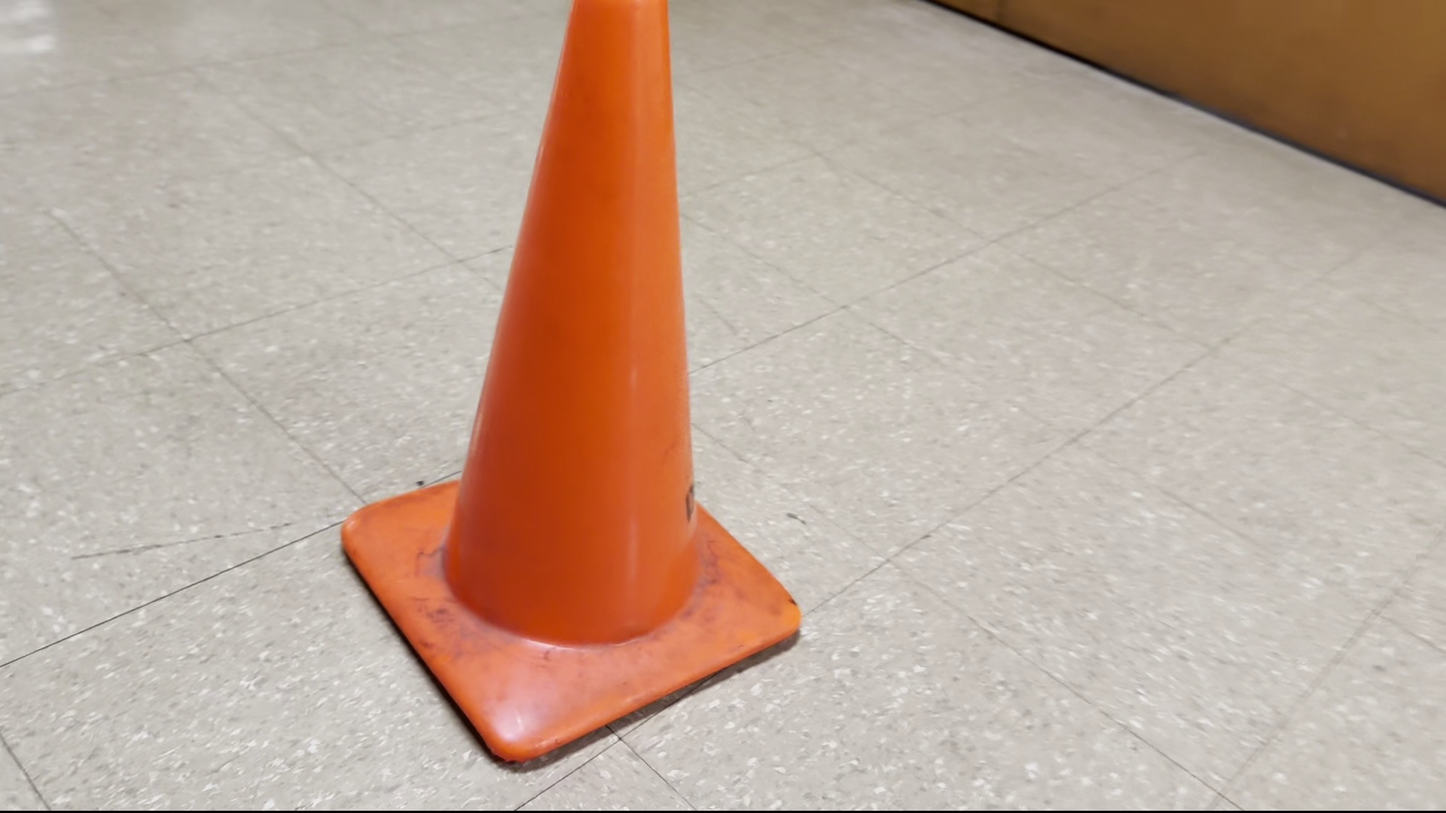traffic_cone: (340, 1, 803, 765)
